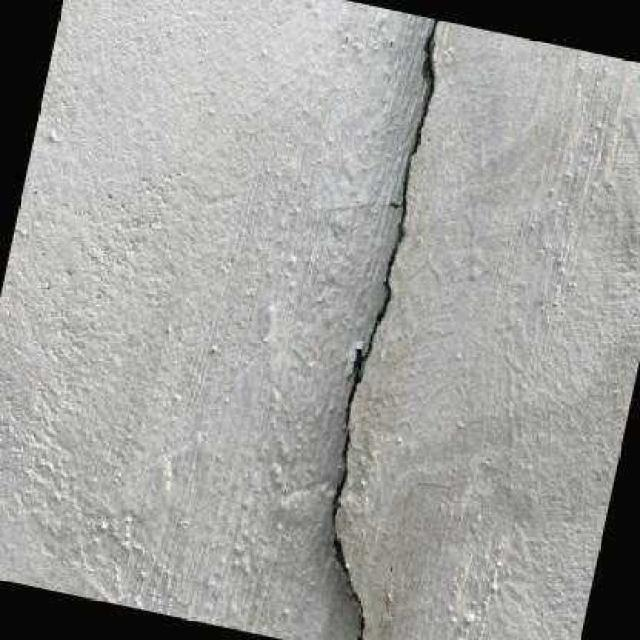D00: (325, 16, 439, 640)
